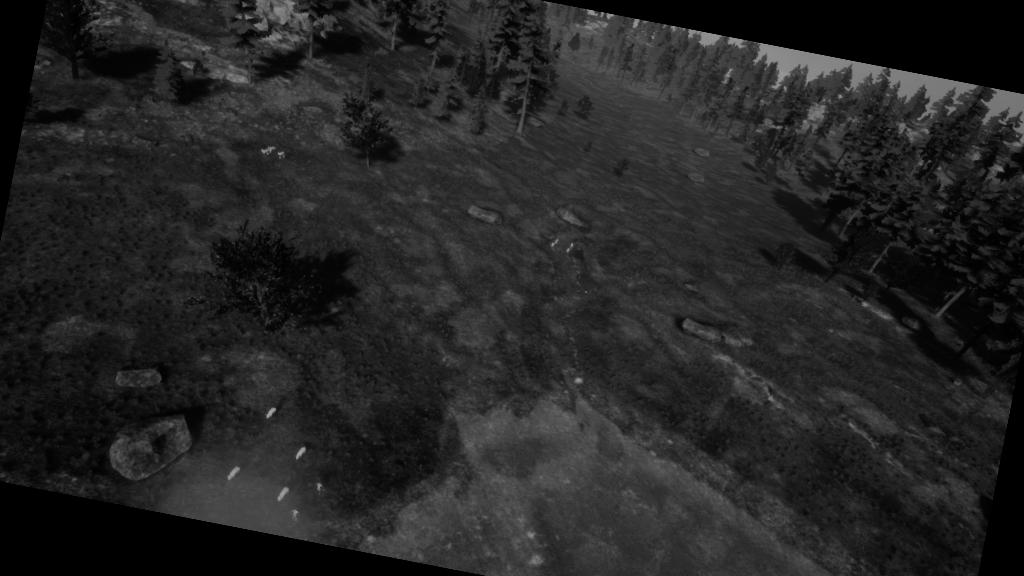human: (284, 505, 304, 524), (310, 478, 326, 498)
pig: (224, 464, 243, 485), (273, 484, 291, 504), (292, 444, 309, 463), (263, 404, 278, 422)
zebra: (275, 150, 288, 162), (266, 144, 278, 156), (258, 146, 270, 156)
